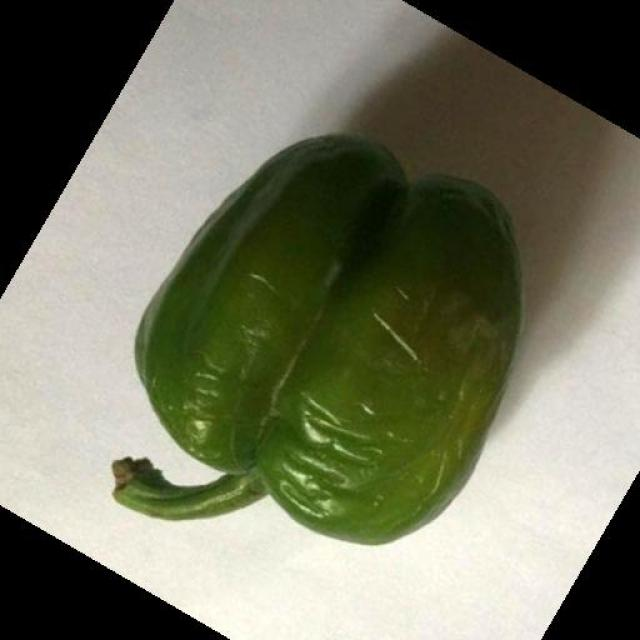Stale_Capsicum: (118, 111, 535, 571)
